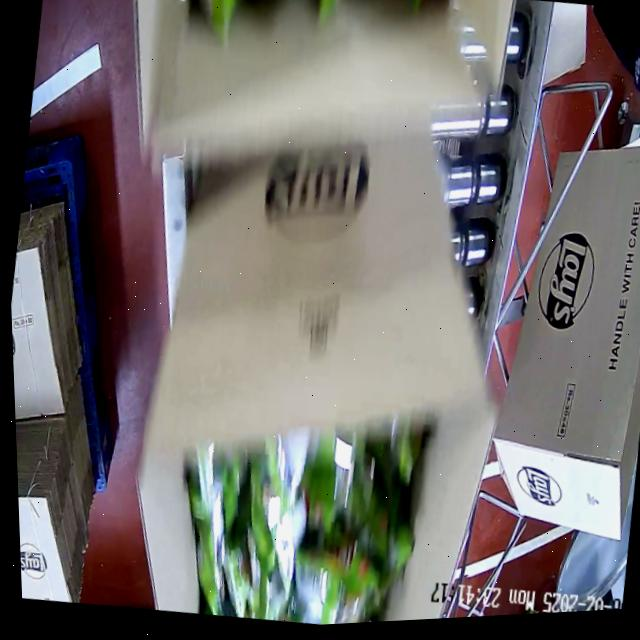YOGURT_HERB: (180, 414, 415, 631)
